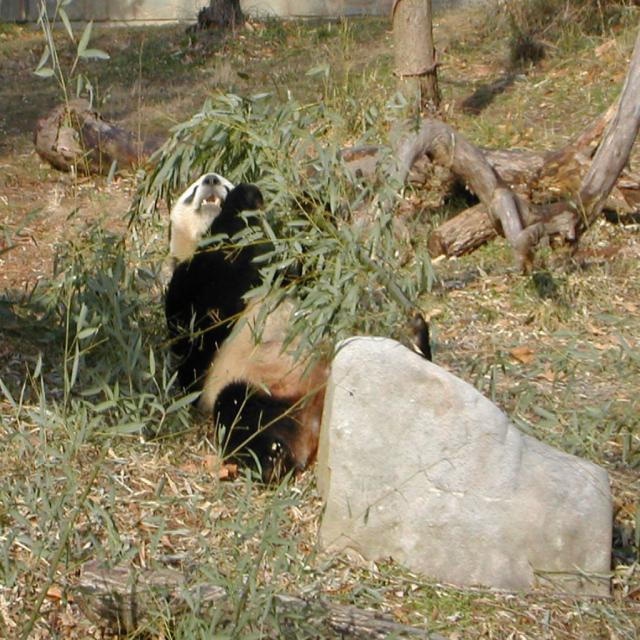panda: (162, 167, 431, 486)
